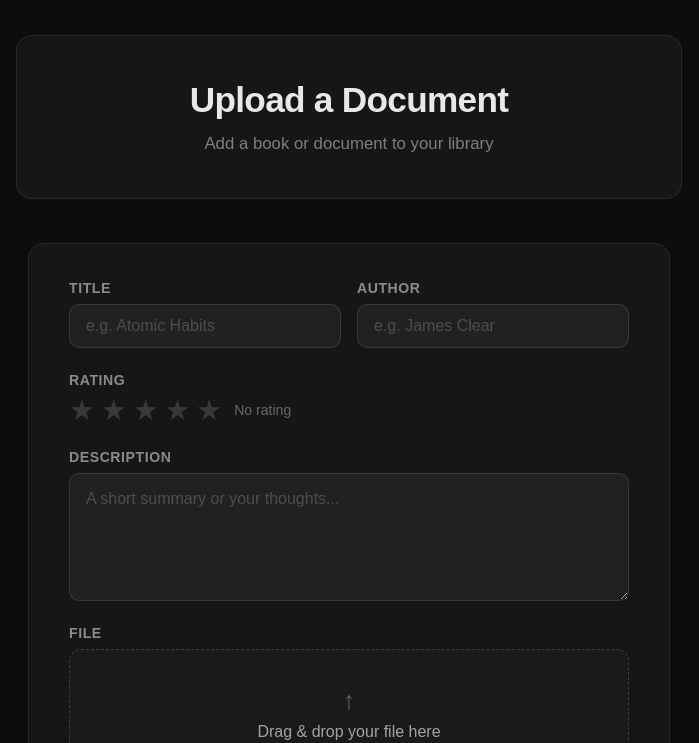
Upload component › shows error banner on API failure
The image size is (699, 743).
Type "Fail Book" into the field with placeholder "e.g. Atomic Habits". click: (205, 326)
box: [69, 304, 341, 348]
(page scrolled)
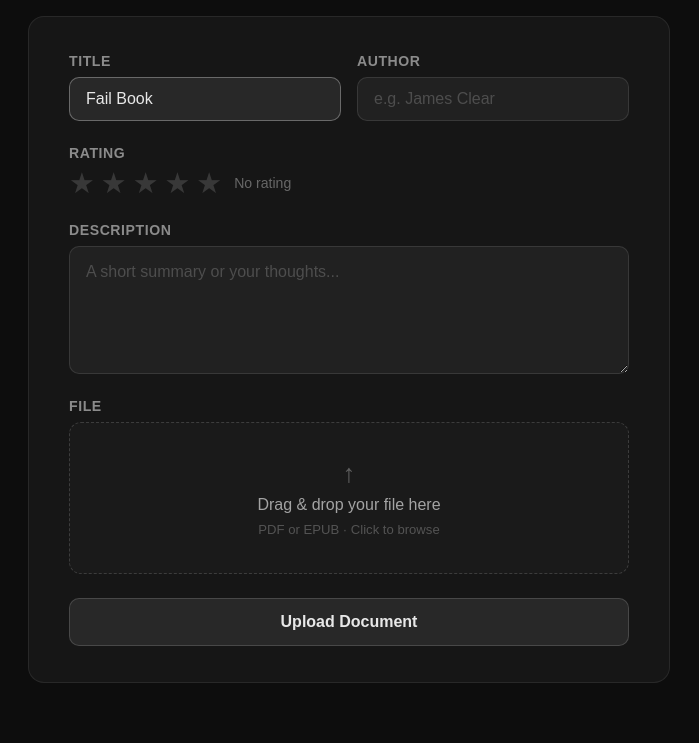
Click the button "Upload Document". click: (349, 622)
box: [69, 598, 629, 646]
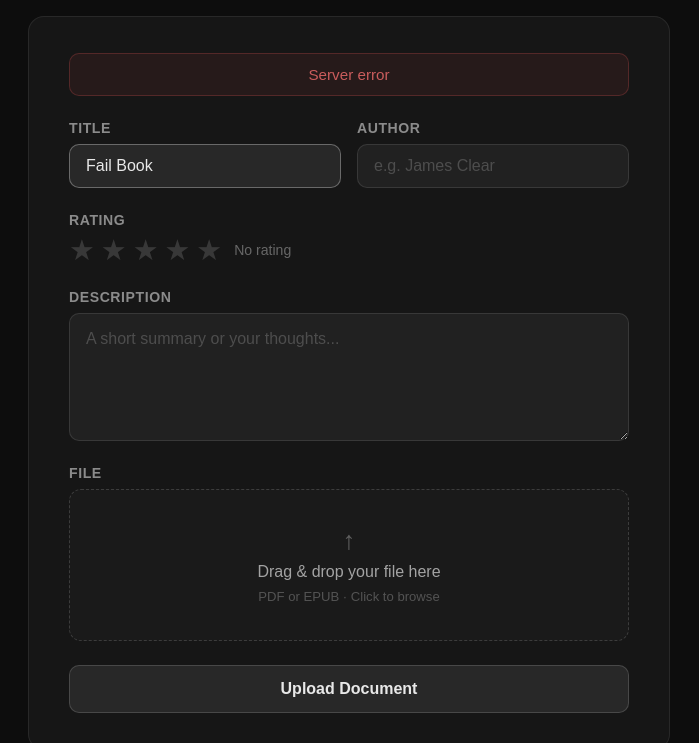
Expected: the text "Server error" is shown, [69, 53, 629, 96]
